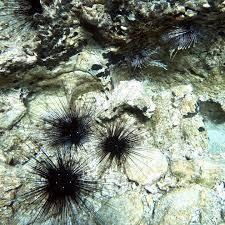urchin: (5, 131, 104, 220), (71, 117, 151, 177), (44, 95, 95, 150)
